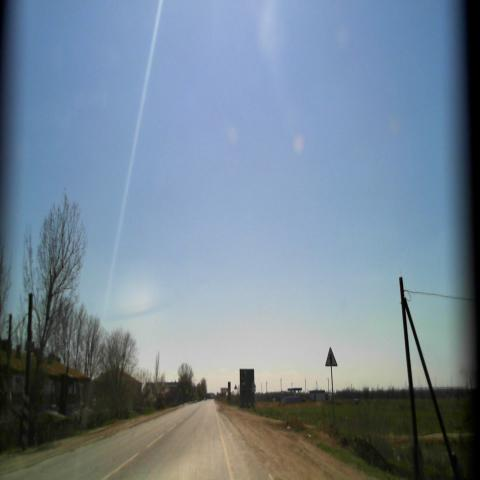2_3_3: (325, 345, 337, 366)
